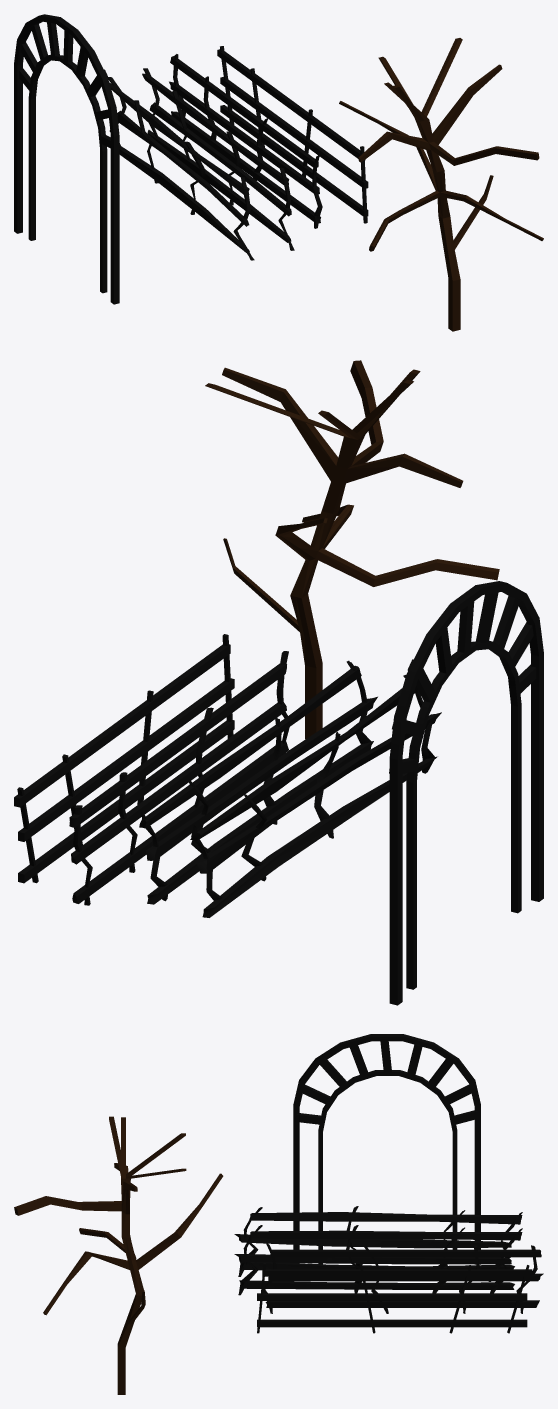
File: objetos_cementerio.FBX
The picture shows the model from 3 angles, top to bottom: view 1: azimuth 30°, elevation 25°; view 2: azimuth 150°, elevation 25°; view 3: azimuth 270°, elevation 25°; orthographic projection. The views are drawn at different scales.
Parts seen in each view (by area): view 1: puerta_reja, arbol_1, Box009, Box010, Box011, Box012; view 2: puerta_reja, arbol_1, Box009, Box010, Box012, Box011; view 3: puerta_reja, Box009, Box011, Box010, arbol_1, Box012.
Part boxes in pixels (<box>): puerta_reja: <box>14,14,119,304</box>; arbol_1: <box>339,38,543,331</box>; Box009: <box>217,46,368,223</box>; Box010: <box>169,54,322,228</box>; Box011: <box>142,68,294,250</box>; Box012: <box>108,77,254,260</box>; puerta_reja: <box>389,581,543,1005</box>; arbol_1: <box>205,360,499,739</box>; Box009: <box>14,634,234,883</box>; Box010: <box>69,651,289,905</box>; Box012: <box>190,675,441,917</box>; Box011: <box>139,660,377,904</box>; puerta_reja: <box>293,1034,480,1264</box>; Box009: <box>257,1263,532,1333</box>; Box011: <box>234,1225,522,1295</box>; Box010: <box>263,1243,543,1313</box>; arbol_1: <box>14,1116,223,1394</box>; Box012: <box>234,1206,522,1281</box>.
Bounding box in the file's own units: 140 × 116 × 226.
